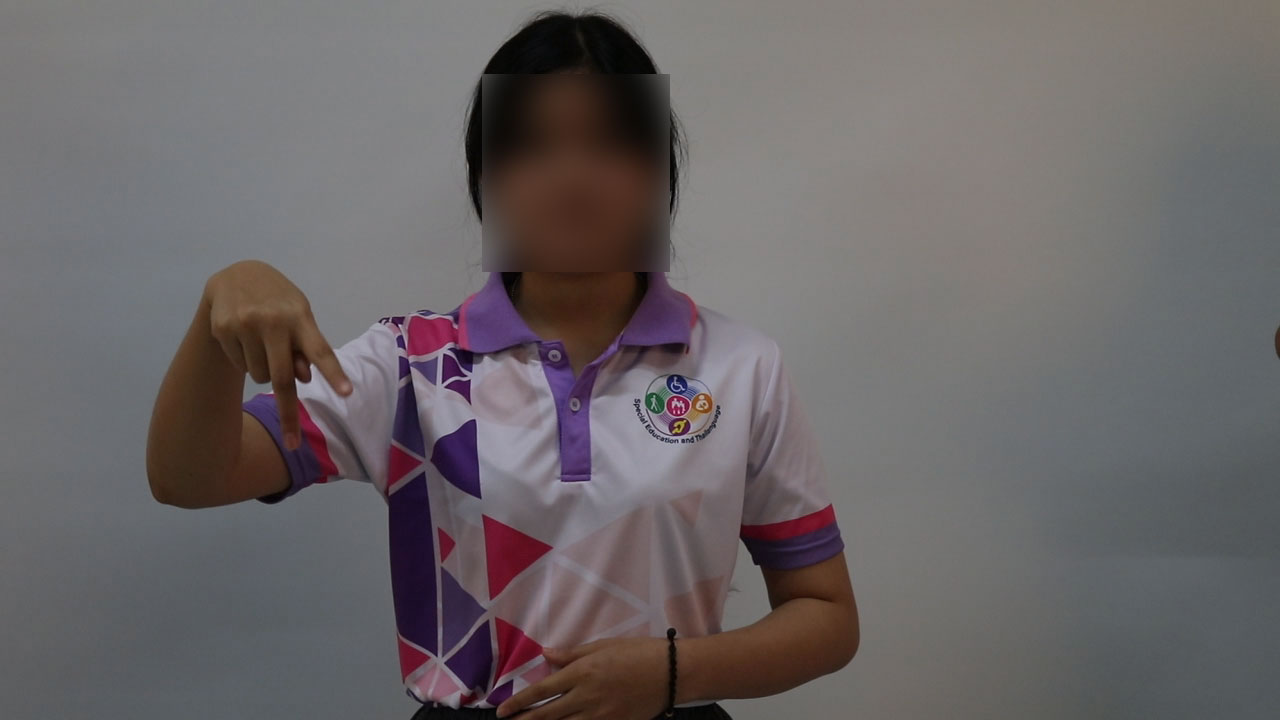por: (196, 236, 362, 457)
